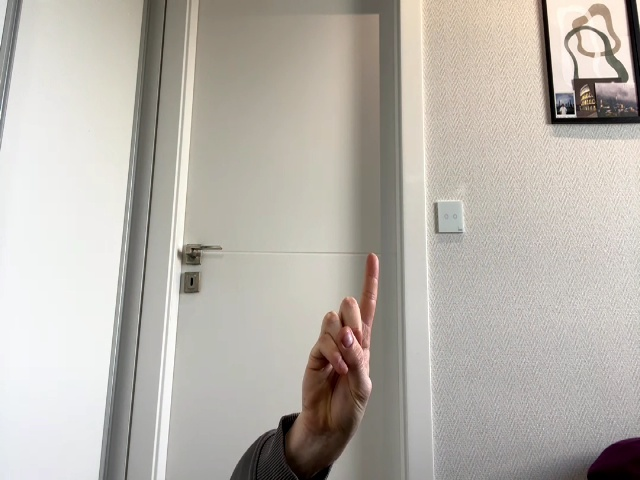Z: (301, 253, 379, 443)
